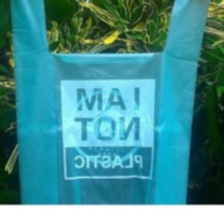plastic_bag: (8, 0, 213, 208)
